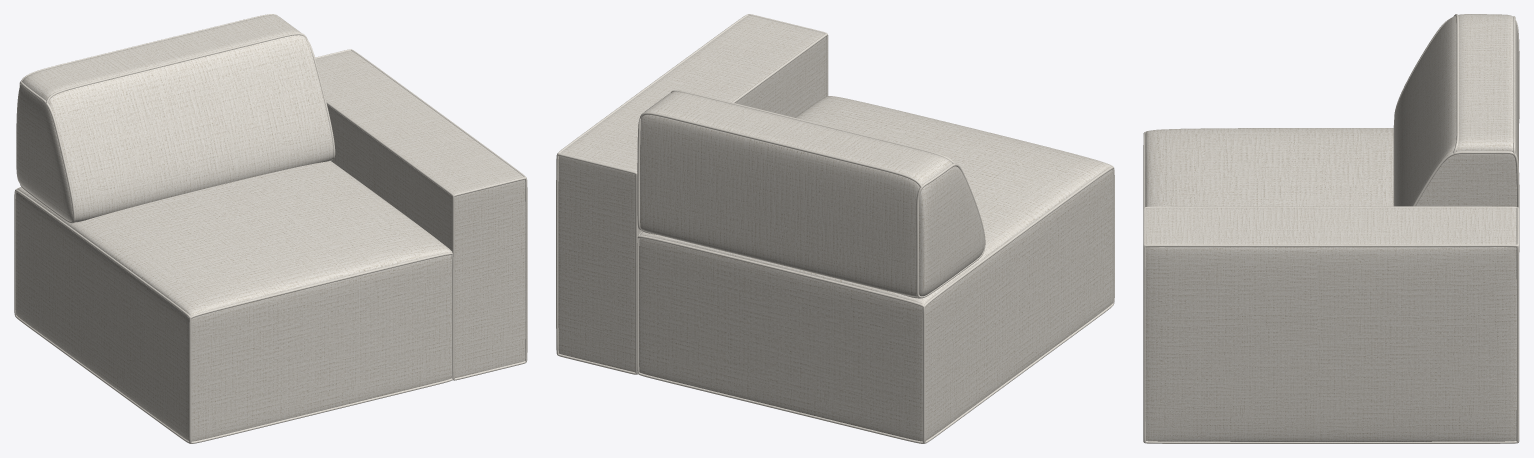
The model's file is left_1_5_seater_arm_120_alpine_ivory.glb.
3 renders of one model, left to right at view 1: azimuth 30°, elevation 25°; view 2: azimuth 150°, elevation 25°; view 3: azimuth 270°, elevation 25°, orthographic. The views are drawn at different scales.
Parts seen in each view (by area): view 1: Box093, Box097, Box088, Shape043, Shape048, Shape039; view 2: Box093, Box097, Box088, Shape043, Shape048, Shape039; view 3: Box088, Box097, Box093, Shape048, Shape039.
Part boxes in pixels (left/top/right/bottom): Box093: left=15, top=160, right=451, bottom=441; Box097: left=16, top=14, right=333, bottom=222; Box088: left=315, top=50, right=525, bottom=377; Shape043: left=14, top=187, right=453, bottom=443; Shape048: left=315, top=49, right=527, bottom=380; Shape039: left=19, top=14, right=335, bottom=223; Box093: left=639, top=96, right=1113, bottom=441; Box097: left=640, top=91, right=984, bottom=296; Box088: left=558, top=15, right=826, bottom=372; Shape043: left=637, top=163, right=1114, bottom=443; Shape048: left=556, top=14, right=828, bottom=374; Shape039: left=637, top=90, right=985, bottom=298; Box088: left=1145, top=207, right=1516, bottom=441; Box097: left=1393, top=14, right=1518, bottom=206; Box093: left=1145, top=128, right=1393, bottom=206; Shape048: left=1143, top=206, right=1519, bottom=443; Shape039: left=1394, top=14, right=1519, bottom=251.
Size of the model in its own units: 1.2 by 0.8369 by 1.07.
Materials: 2 (2 with a texture image).
